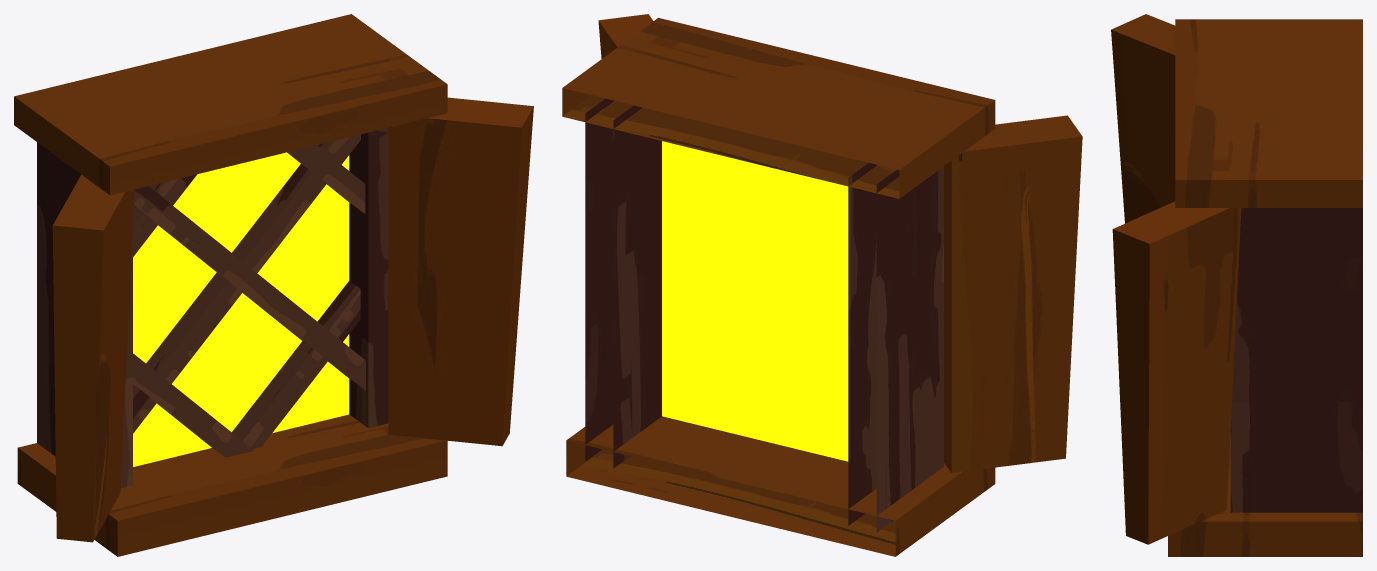
Rendered from SM_BLD_window_v08_02.glb.
3 renders of one model, left to right at view 1: azimuth 30°, elevation 25°; view 2: azimuth 150°, elevation 25°; view 3: azimuth 270°, elevation 25°, orthographic. The views are drawn at different scales.
Visible parts, largest first — view 1: SM_BLD_window_v08_02_EXPORT; view 2: SM_BLD_window_v08_02_EXPORT; view 3: SM_BLD_window_v08_02_EXPORT.
Part boxes in pixels (x1,y1,x2,y2): SM_BLD_window_v08_02_EXPORT: [14, 14, 533, 556]; SM_BLD_window_v08_02_EXPORT: [562, 14, 1082, 556]; SM_BLD_window_v08_02_EXPORT: [1111, 14, 1362, 556].
Bounding box in the file's own units: 1.13 × 0.8665 × 0.5222.
Materials: 3 (3 with a texture image).
